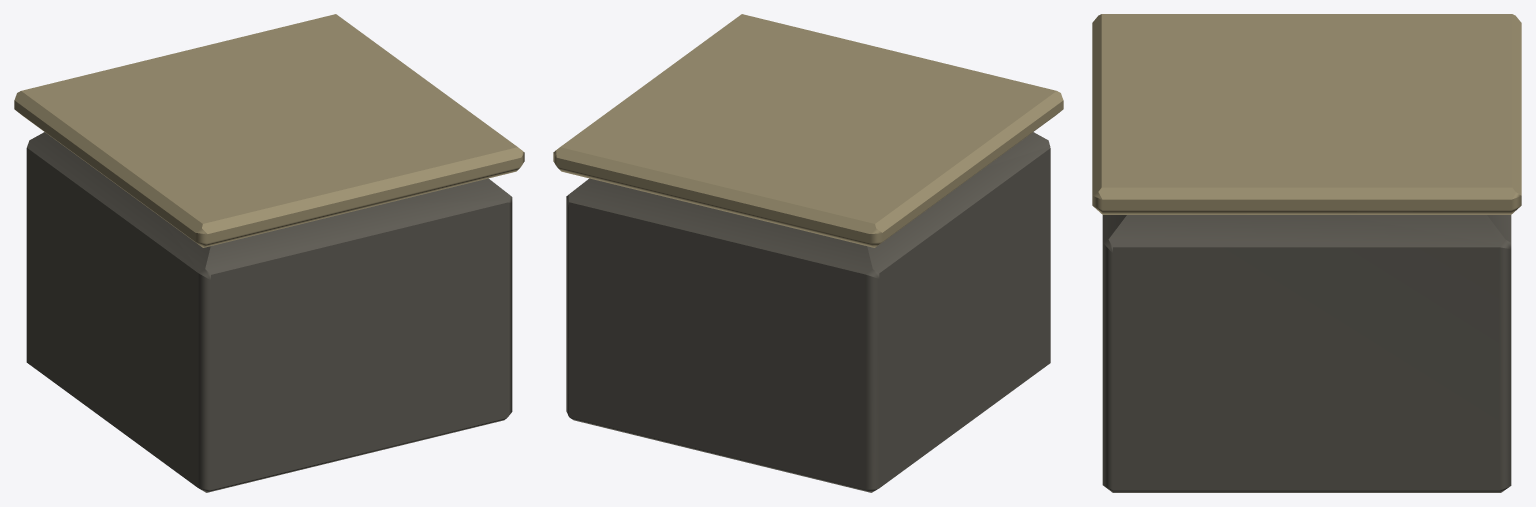
Rendered from cliff_block.glb.
3 renders of one model, left to right at view 1: azimuth 30°, elevation 25°; view 2: azimuth 150°, elevation 25°; view 3: azimuth 270°, elevation 25°, orthographic. The views are drawn at different scales.
Visible parts, largest first — view 1: Body; view 2: Body; view 3: Body.
Part boxes in pixels (box(x1,y1,x2,y2)): Body: box(14, 14, 524, 492); Body: box(553, 14, 1063, 492); Body: box(1092, 14, 1521, 492).
Size of the model in its own units: 4.2 by 3.35 by 4.2.
